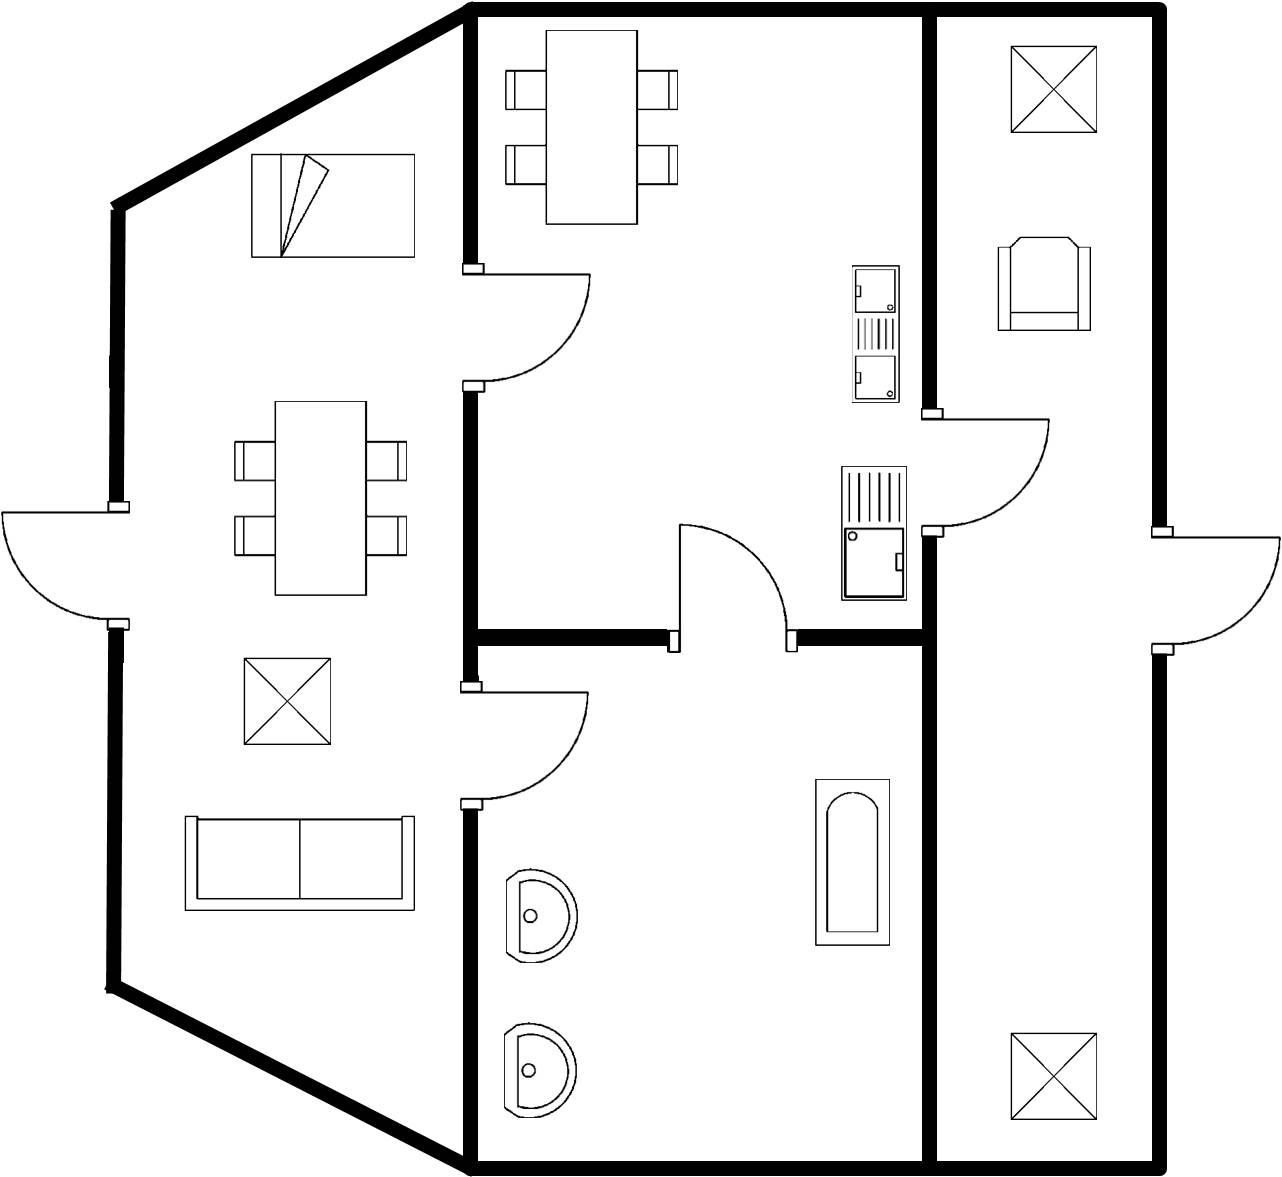sink: (838, 258, 907, 408)
